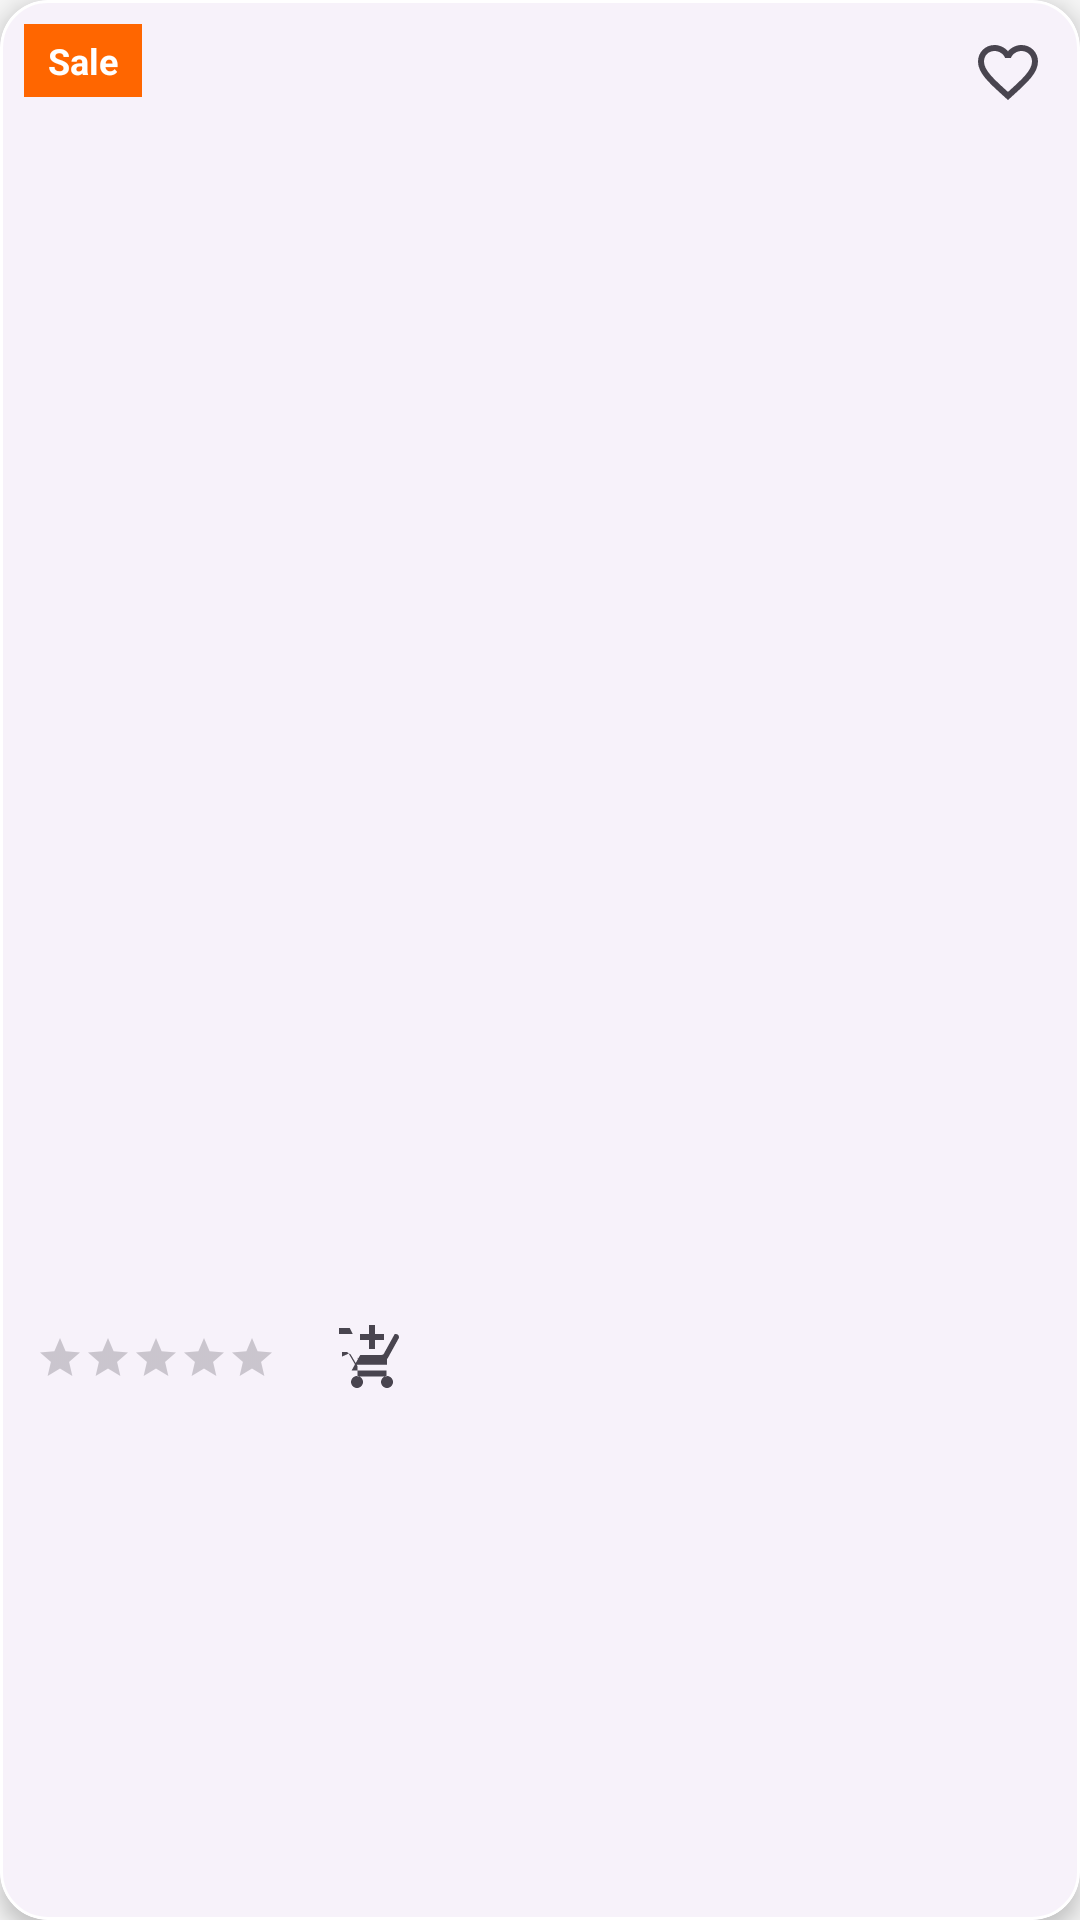

Icons on this 1080w x 1920h Android screen, each with its box as (x1, y1, x2, y2):
favorite border: (978, 7, 1080, 100)
